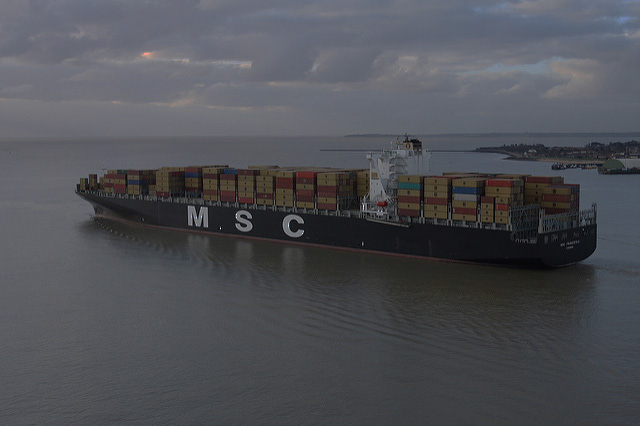container_ship: (74, 132, 599, 269)
